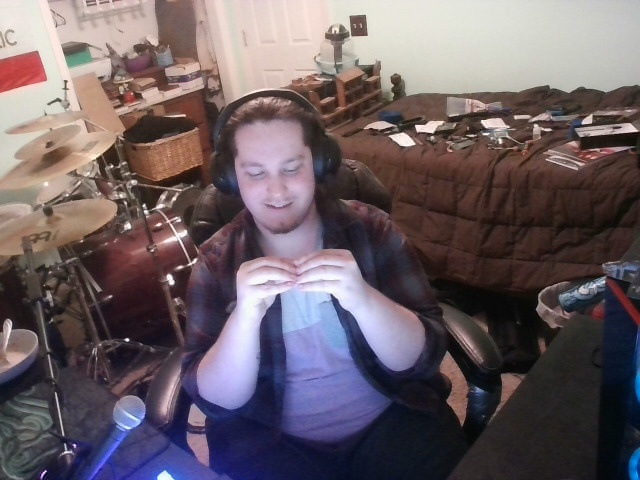more: (220, 245, 384, 312)
